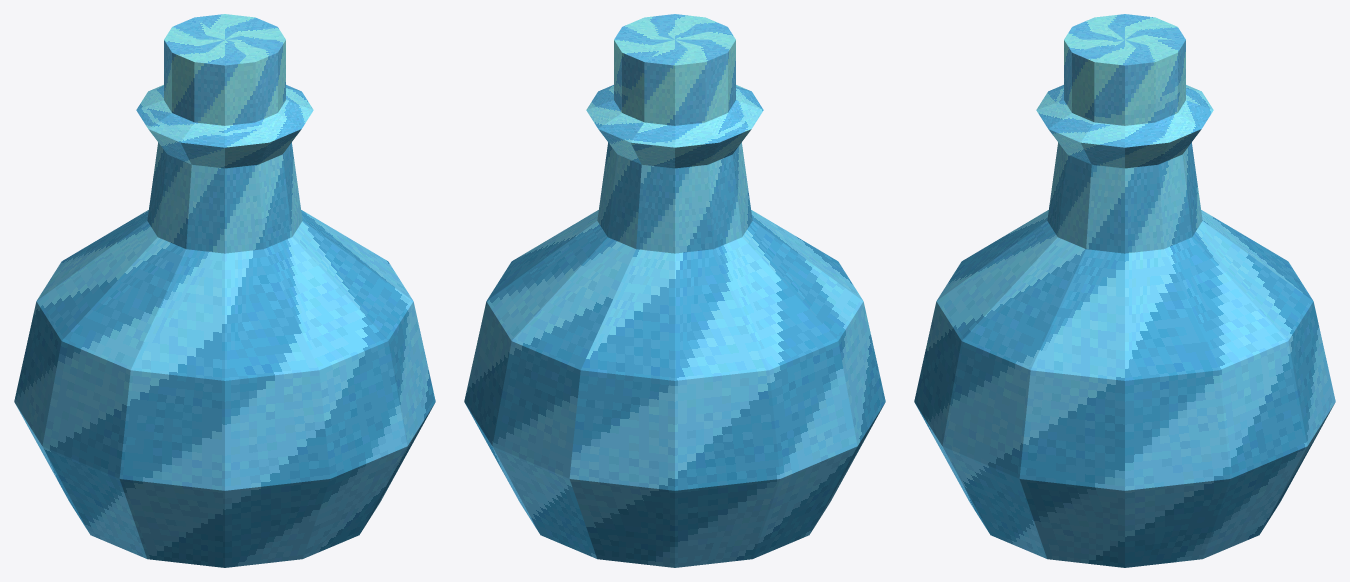
File: pocao_anti_fogo.glb
3 views of the same model, side by side, from view 1: azimuth 30°, elevation 25°; view 2: azimuth 150°, elevation 25°; view 3: azimuth 270°, elevation 25° (orthographic).
Visible parts, largest first — view 1: pocao_anti_fogo; view 2: pocao_anti_fogo; view 3: pocao_anti_fogo.
Boxes of the visible parts, left/top/right/bottom form: pocao_anti_fogo: left=14, top=14, right=435, bottom=567; pocao_anti_fogo: left=464, top=14, right=885, bottom=567; pocao_anti_fogo: left=914, top=14, right=1335, bottom=567.
Size of the model in its own units: 0.1824 by 0.2304 by 0.1824.
1 material, 1 textured.
